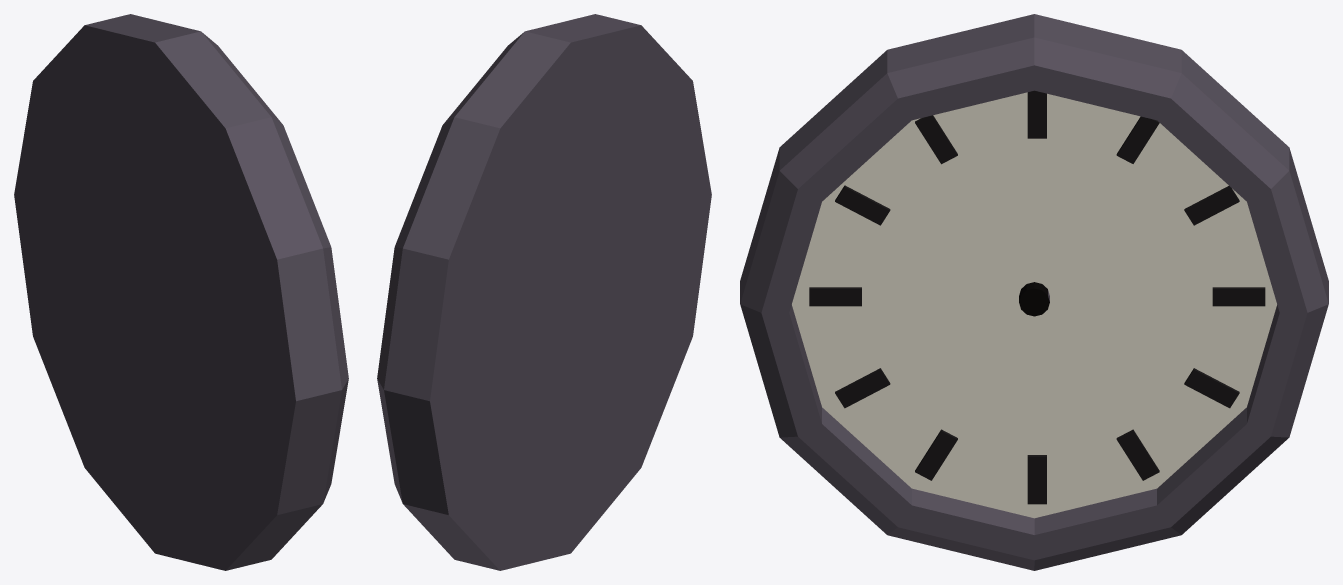
Rendered from Tower_Clock_Backplate.fbx.
3 renders of one model, left to right at view 1: azimuth 30°, elevation 25°; view 2: azimuth 150°, elevation 25°; view 3: azimuth 270°, elevation 25°, orthographic. The views are drawn at different scales.
Visible parts, largest first — view 1: Tower_Clock; view 2: Tower_Clock; view 3: Tower_Clock.
Part boxes in pixels (x1,y1,x2,y2): Tower_Clock: (14,14,348,570); Tower_Clock: (377,14,711,570); Tower_Clock: (740,14,1328,570).
Bounding box in the file's own units: 105 × 813 × 813.
